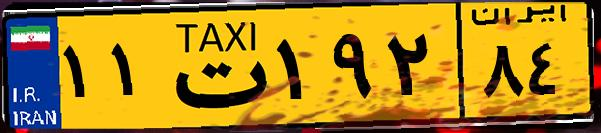1: (270, 28, 330, 110), (57, 26, 110, 100), (110, 28, 158, 98)
2: (385, 28, 445, 110)
4: (525, 38, 570, 115)
8: (475, 38, 525, 113)
9: (330, 28, 385, 110)
ت: (158, 12, 270, 120)
